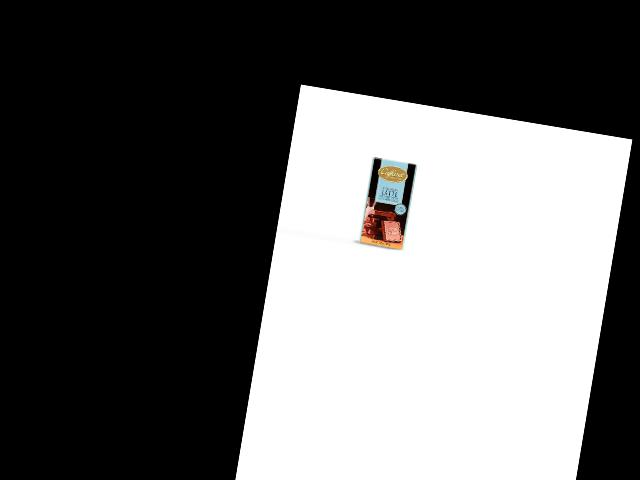chocolate: (356, 155, 418, 251)
